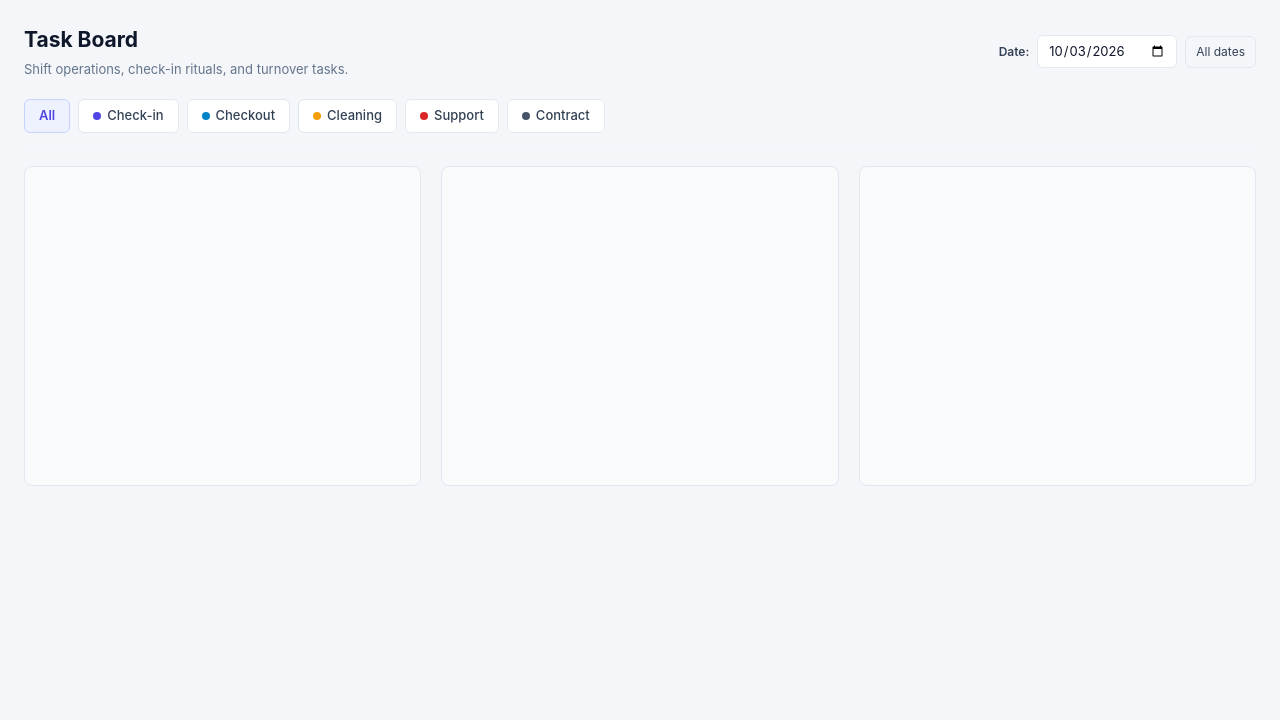
Test case: Story 3.5: Snap-back chống Done ảo (Task Closing Guards) › snaps back Check-in task when moved to DONE if rent is unpaid and shows structured toast
The width and height of the screenshot is (1280, 720).
Click the button with test id "all-dates-btn": (1221, 52) [1185, 36, 1256, 68]
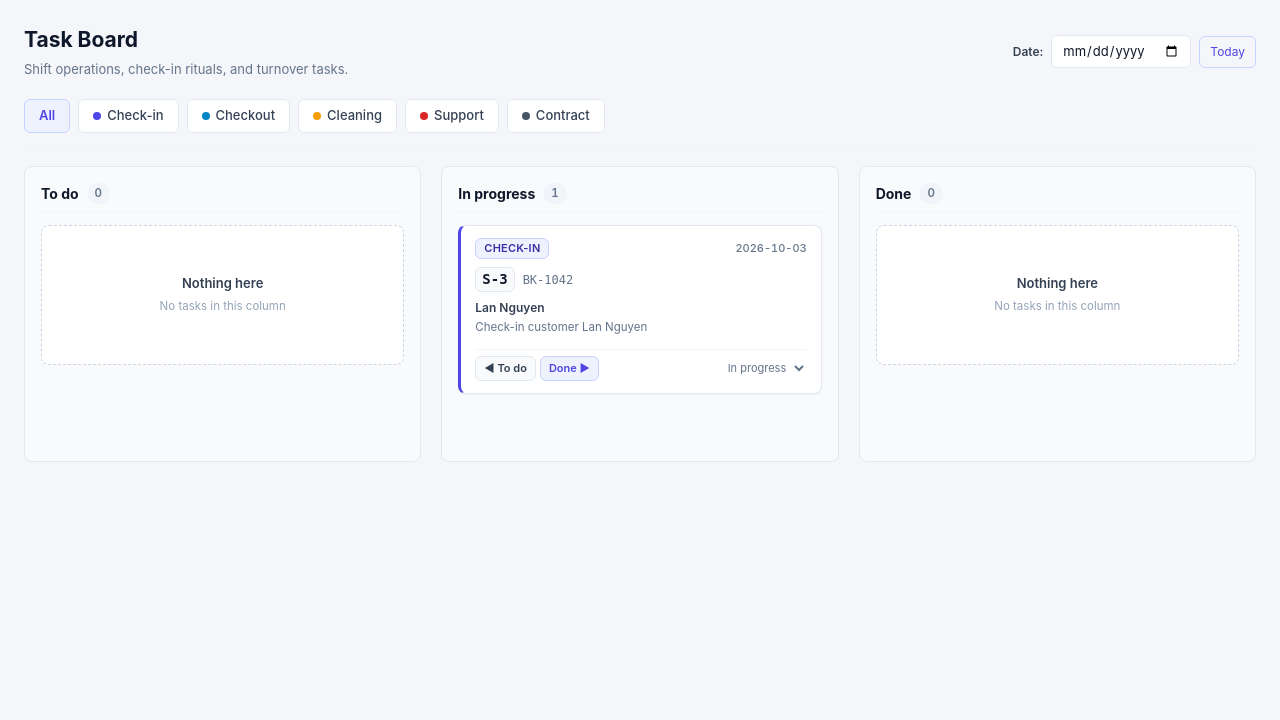
Check: the element with test id "task-card-10" is shown, box [458, 225, 822, 394]
// Try moving to Done using select dropdown
Select "Done" in the dropdown with test id "status-select-10": (763, 368) [720, 358, 807, 378]
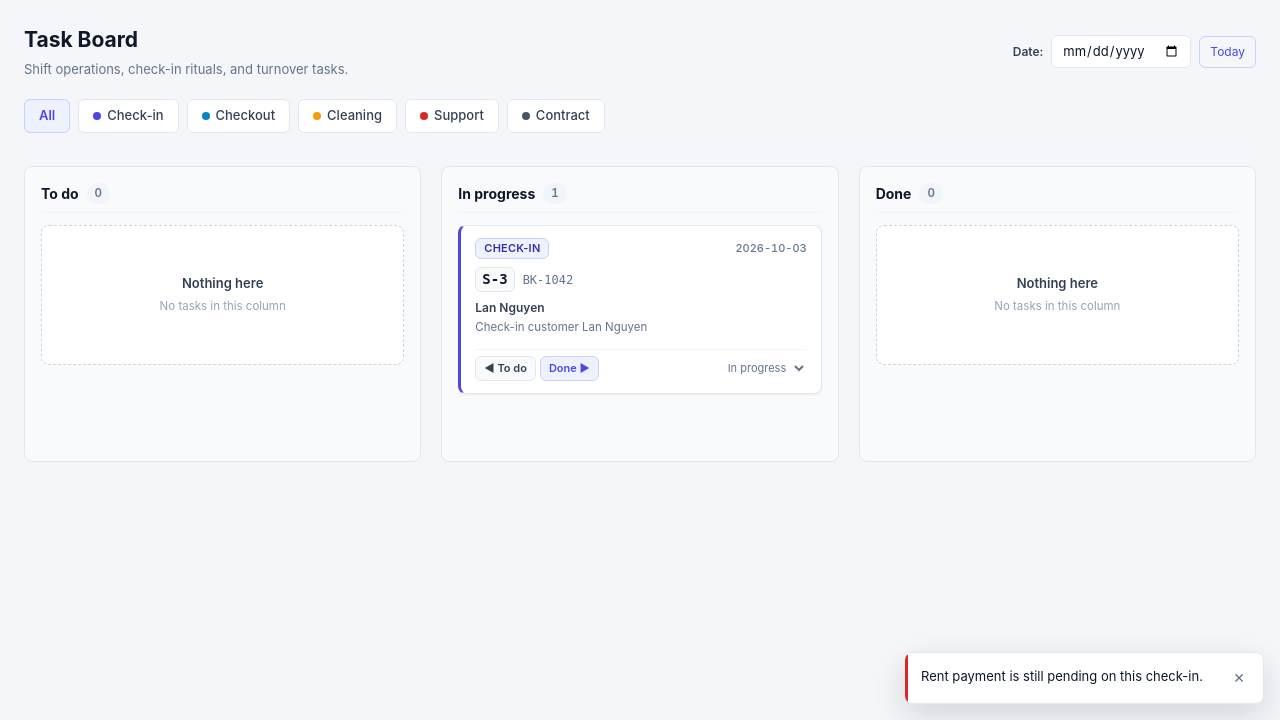
Check: the text with test id "column-count-in_progress" reads "1", box [551, 186, 559, 200]
Check: the text with test id "column-count-done" reads "0", box [927, 186, 935, 200]
Check: the text "Rent payment is still pending on this check-in." is shown, box [921, 667, 1213, 686]
